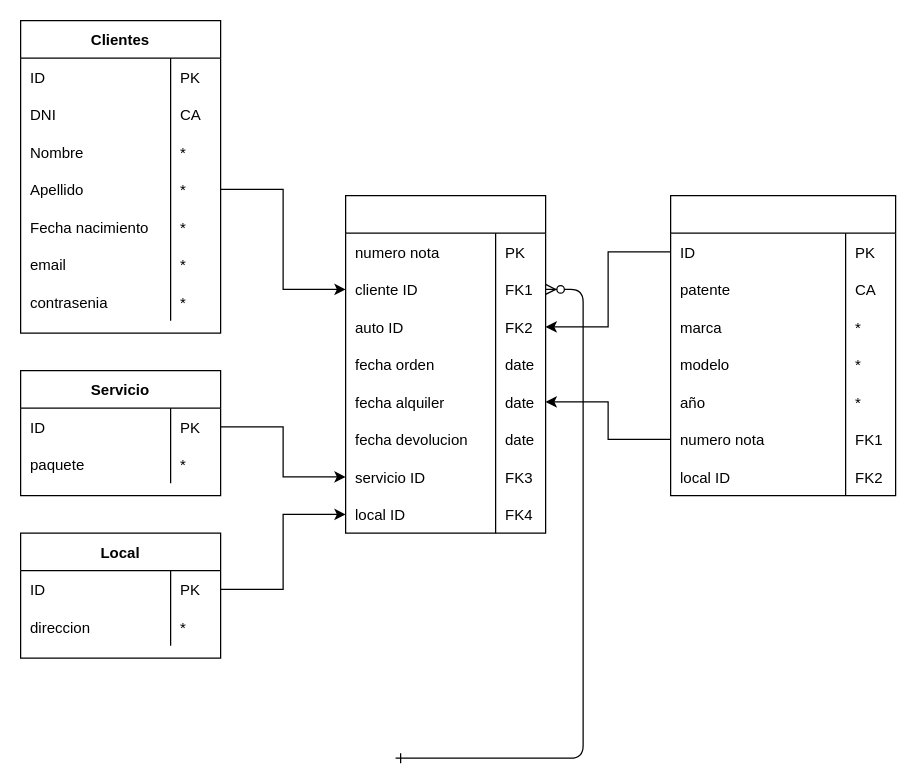
Image size: 916x784. Some labels were removed from this diagram. Here are the shapes that lost their labels. From the top down, the box of each, then its label:
(344, 194, 546, 533): Alquileres
(669, 194, 896, 496): Autos
